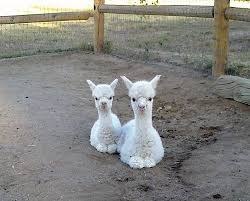alpaca: (119, 74, 165, 169), (85, 78, 122, 154)
